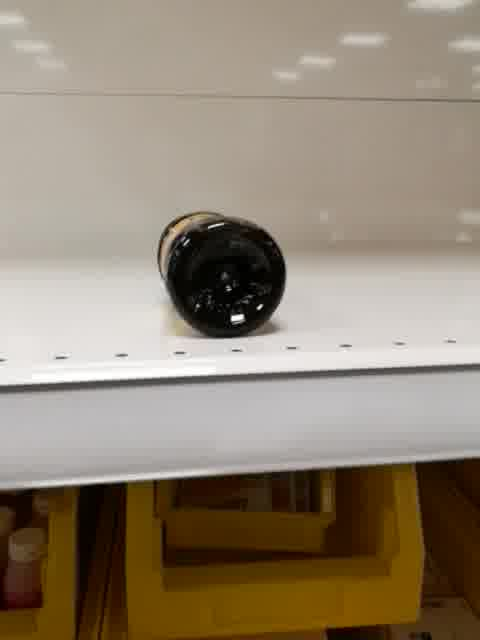cookingoil: (155, 207, 290, 343)
